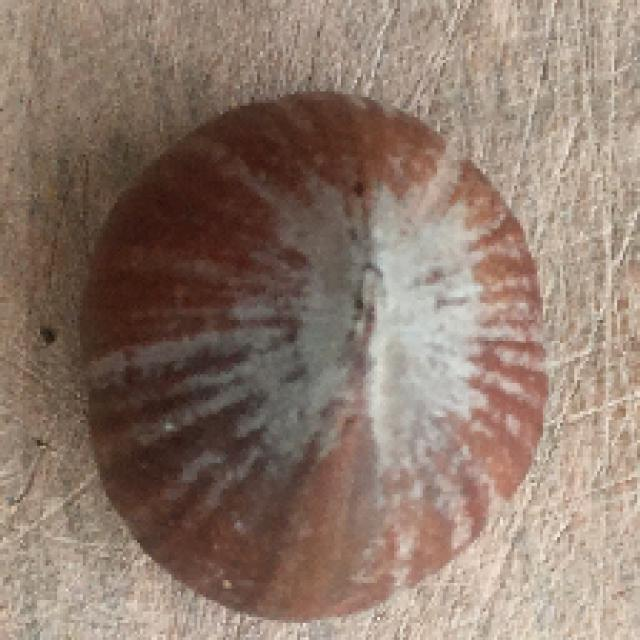qualityHazelnut: (83, 91, 551, 624)
